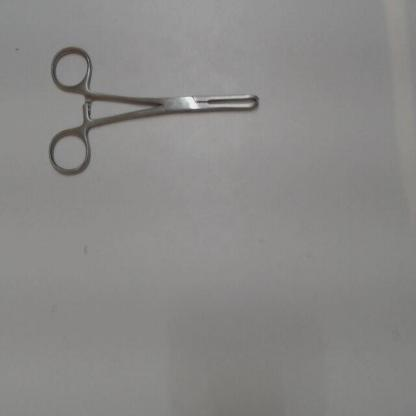Allis Tissue Forceps: (43, 35, 274, 184)
